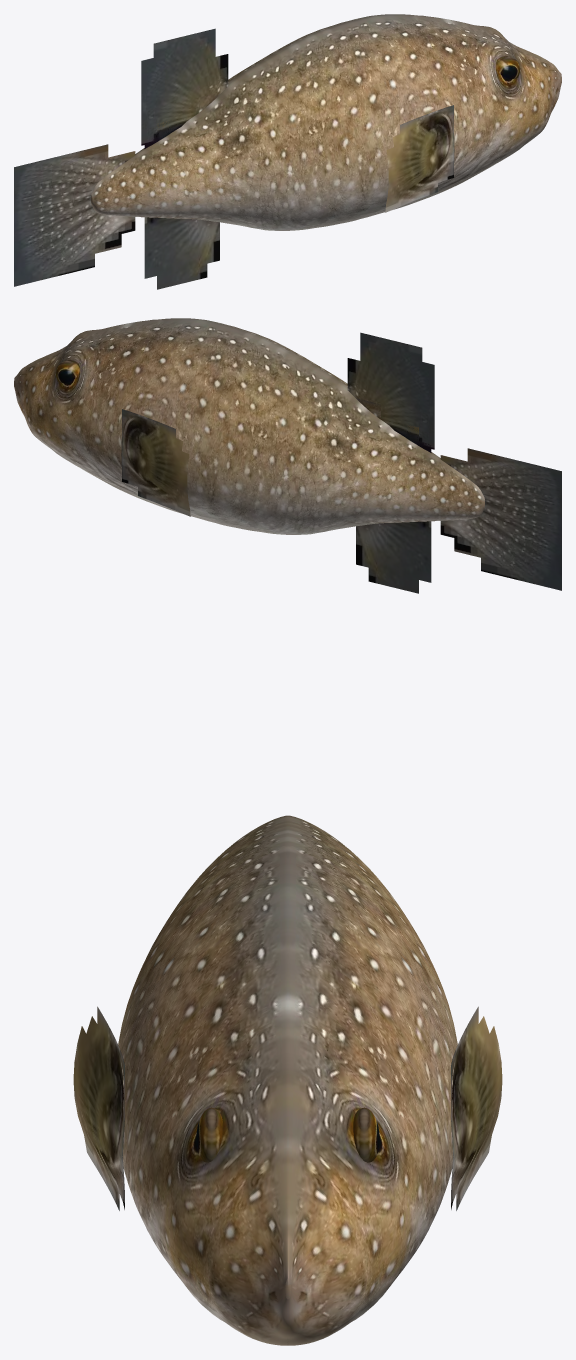
The model's file is real-arothron_hispidus.glb.
The picture shows the model from 3 angles, top to bottom: view 1: azimuth 30°, elevation 25°; view 2: azimuth 150°, elevation 25°; view 3: azimuth 270°, elevation 25°; orthographic projection. The views are drawn at different scales.
Parts seen in each view (by area): view 1: arothron_hispidus; view 2: arothron_hispidus; view 3: arothron_hispidus.
Part boxes in pixels (left/top/right/bottom): arothron_hispidus: left=14, top=14, right=561, bottom=289; arothron_hispidus: left=14, top=318, right=561, bottom=593; arothron_hispidus: left=73, top=815, right=502, bottom=1345.
Size of the model in its own units: 0.5002 by 0.2155 by 0.1696.
Materials: 1 (1 with a texture image).
